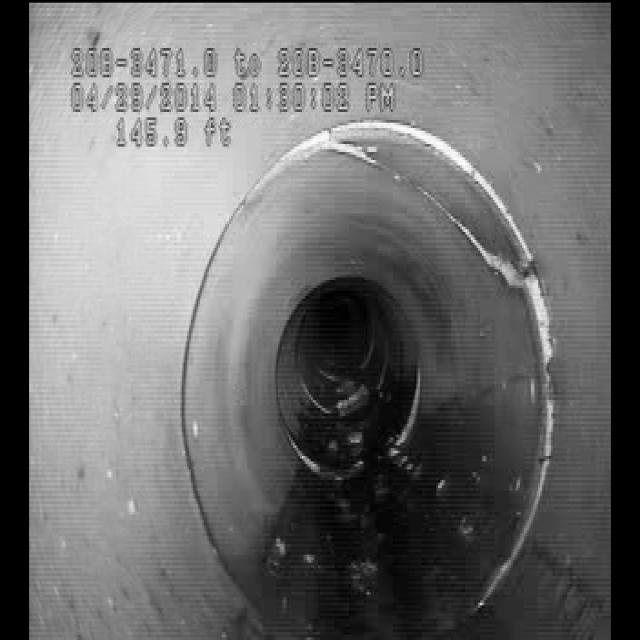Fracture: (352, 124, 514, 284)
